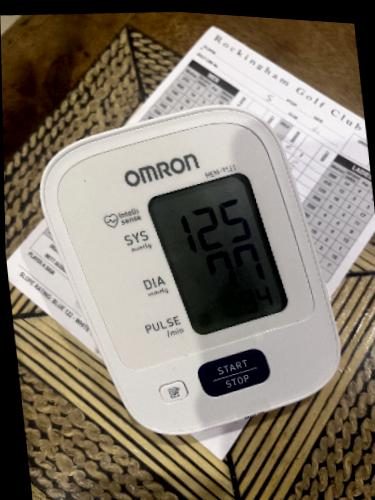bpm: (141, 168, 293, 344)
